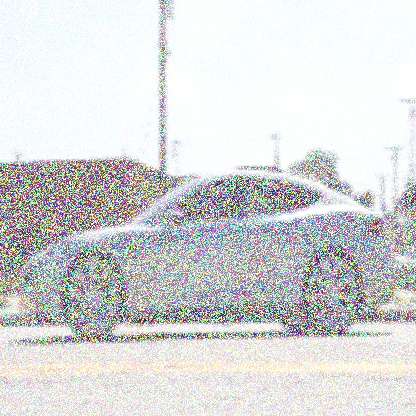Vehicle: (15, 158, 411, 360)
